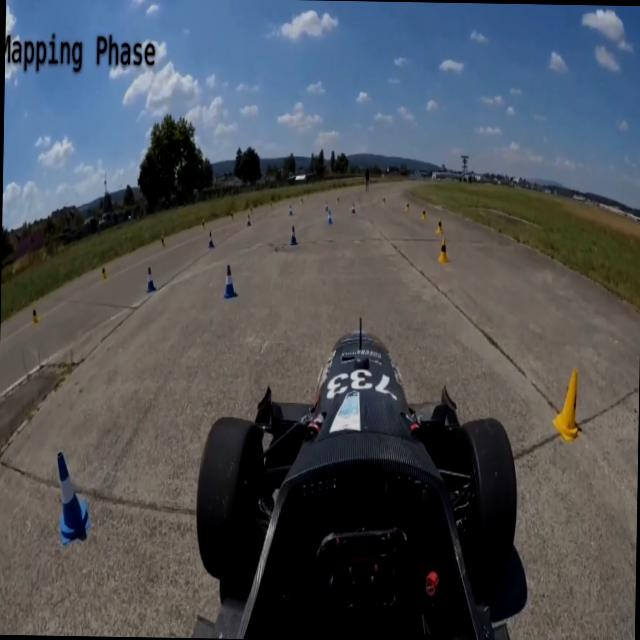blue_cone: (54, 448, 92, 549), (222, 261, 238, 301), (144, 264, 157, 295), (288, 226, 299, 247), (207, 230, 215, 250), (327, 208, 332, 226), (288, 204, 292, 216)
yellow_cone: (551, 365, 581, 443), (438, 235, 450, 262), (435, 215, 444, 234), (421, 206, 426, 221)
